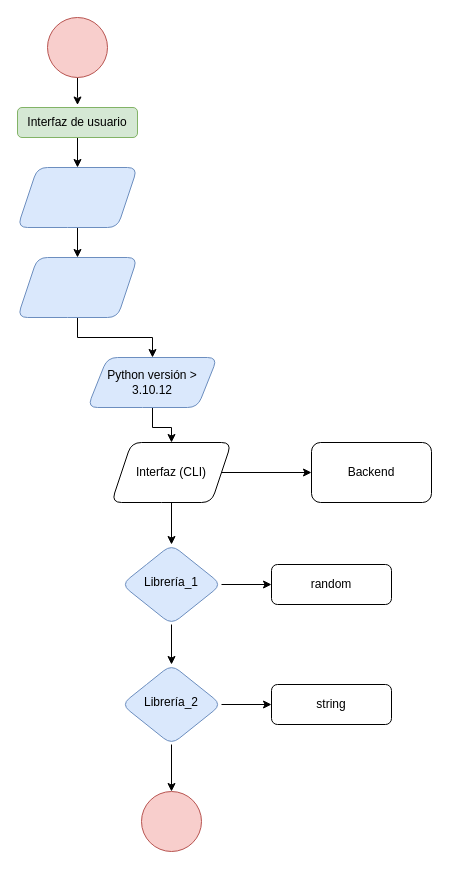
Image size: 449x869. Some labels were removed from this diagram. Here are the shapes that lost their labels. From the top down, the box of each, then its label:
(46, 16, 108, 78): Inicio
(16, 166, 138, 228): SO Windows
(16, 256, 138, 318): MacintoshOS
(140, 790, 202, 852): Detener
